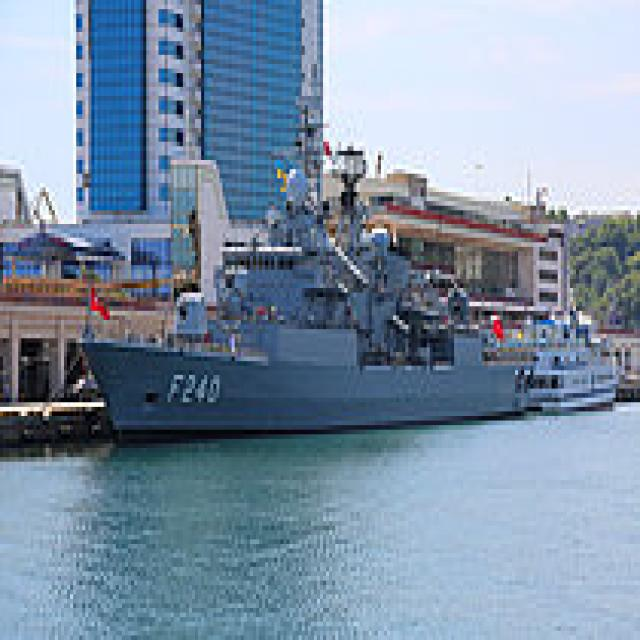Warship: (70, 101, 515, 434)
